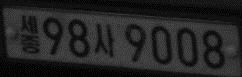0: (176, 26, 199, 67), (150, 24, 172, 64)
8: (201, 29, 225, 69), (67, 18, 90, 57)
9: (41, 16, 64, 55), (124, 22, 147, 61)
사: (93, 23, 115, 56)
세종_V: (19, 14, 41, 54)
